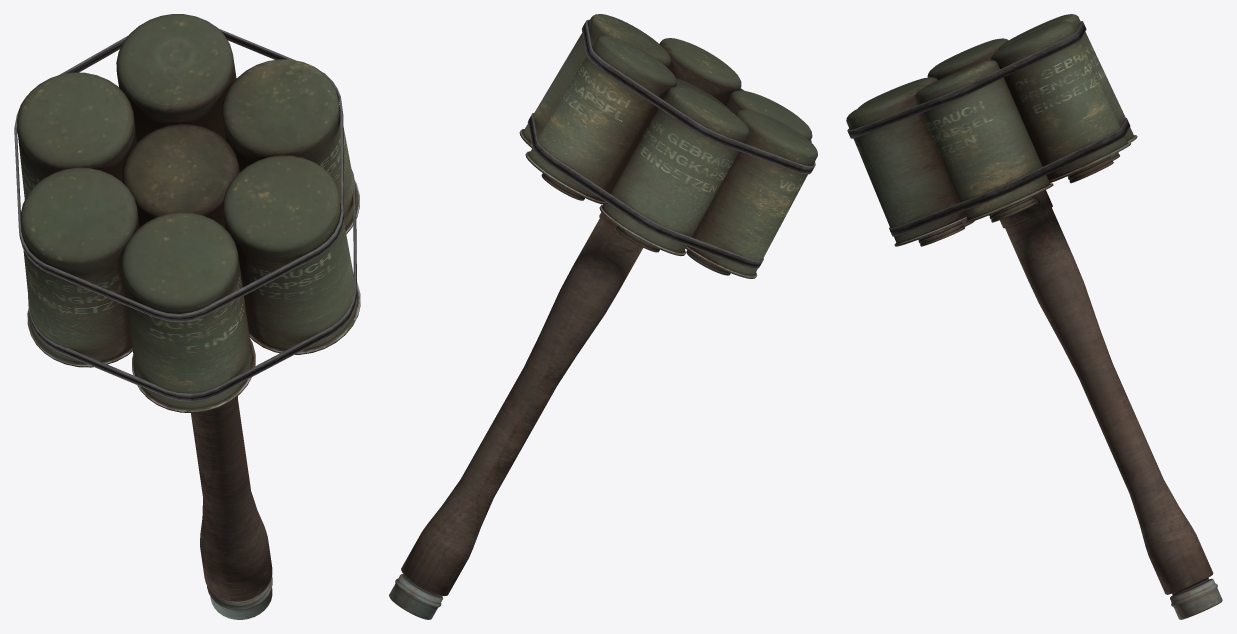
File: Cluster_Bomb.fbx
3 renders of one model, left to right at view 1: azimuth 30°, elevation 25°; view 2: azimuth 150°, elevation 25°; view 3: azimuth 270°, elevation 25°, orthographic. The views are drawn at different scales.
Visible parts, largest first — view 1: WW2Gren_mesh; view 2: WW2Gren_mesh; view 3: WW2Gren_mesh.
Boxes of the visible parts, <box> form: WW2Gren_mesh: <box>14,14,360,619</box>; WW2Gren_mesh: <box>389,14,817,619</box>; WW2Gren_mesh: <box>846,14,1222,619</box>.
Bounding box in the file's own units: 2911 × 3195 × 5022.
Materials: 1 (1 with a texture image).
